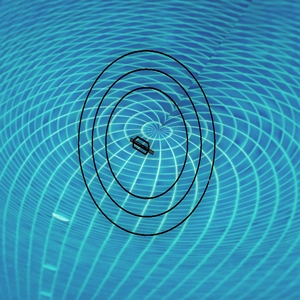circle: (75, 48, 223, 239)
submarine: (132, 137, 150, 154)
